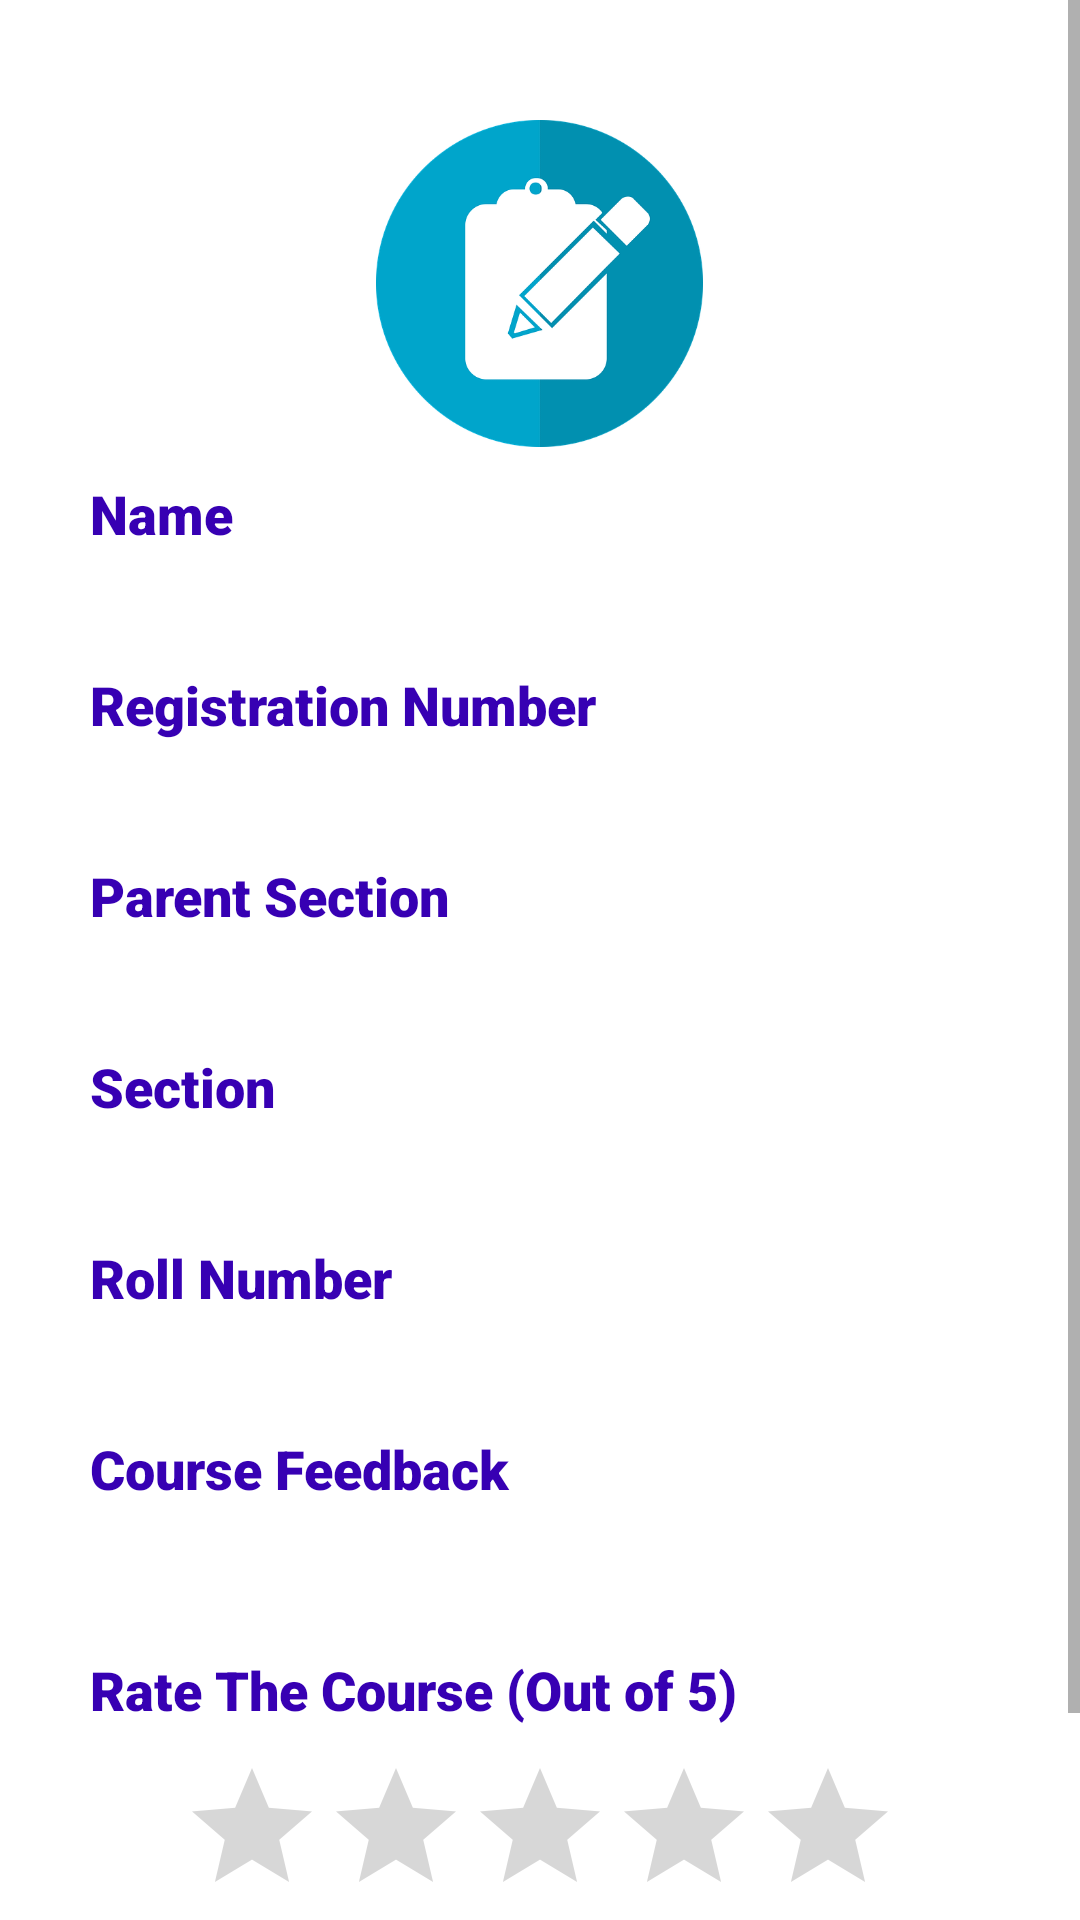

Icons on this 1080 x 1920 Android screen, each with its box as (x1, y1, x2, y2):
survey: (376, 120, 703, 447)
